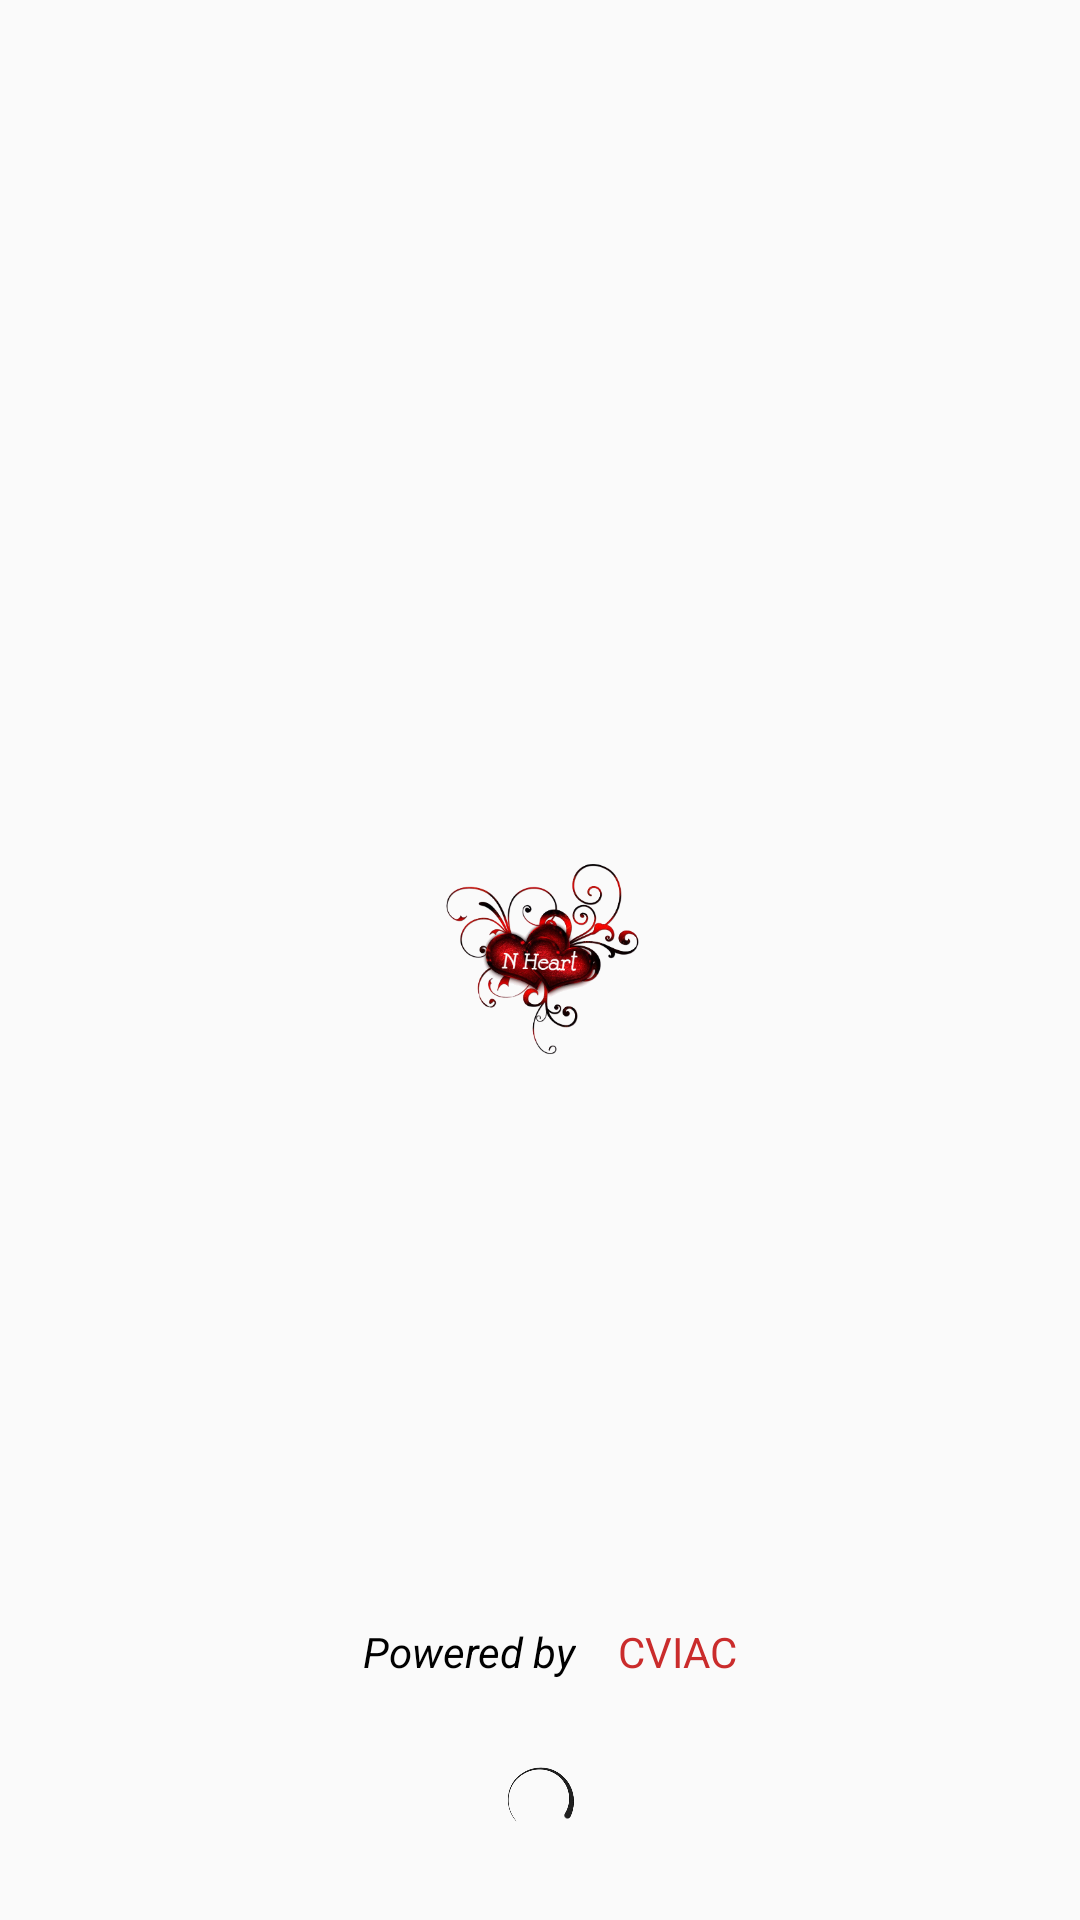

Icon bounding boxes for this 1080px x 1920px phone screenshot, format (x1, y1, x2, y2):
loading: (508, 1767, 574, 1821)
